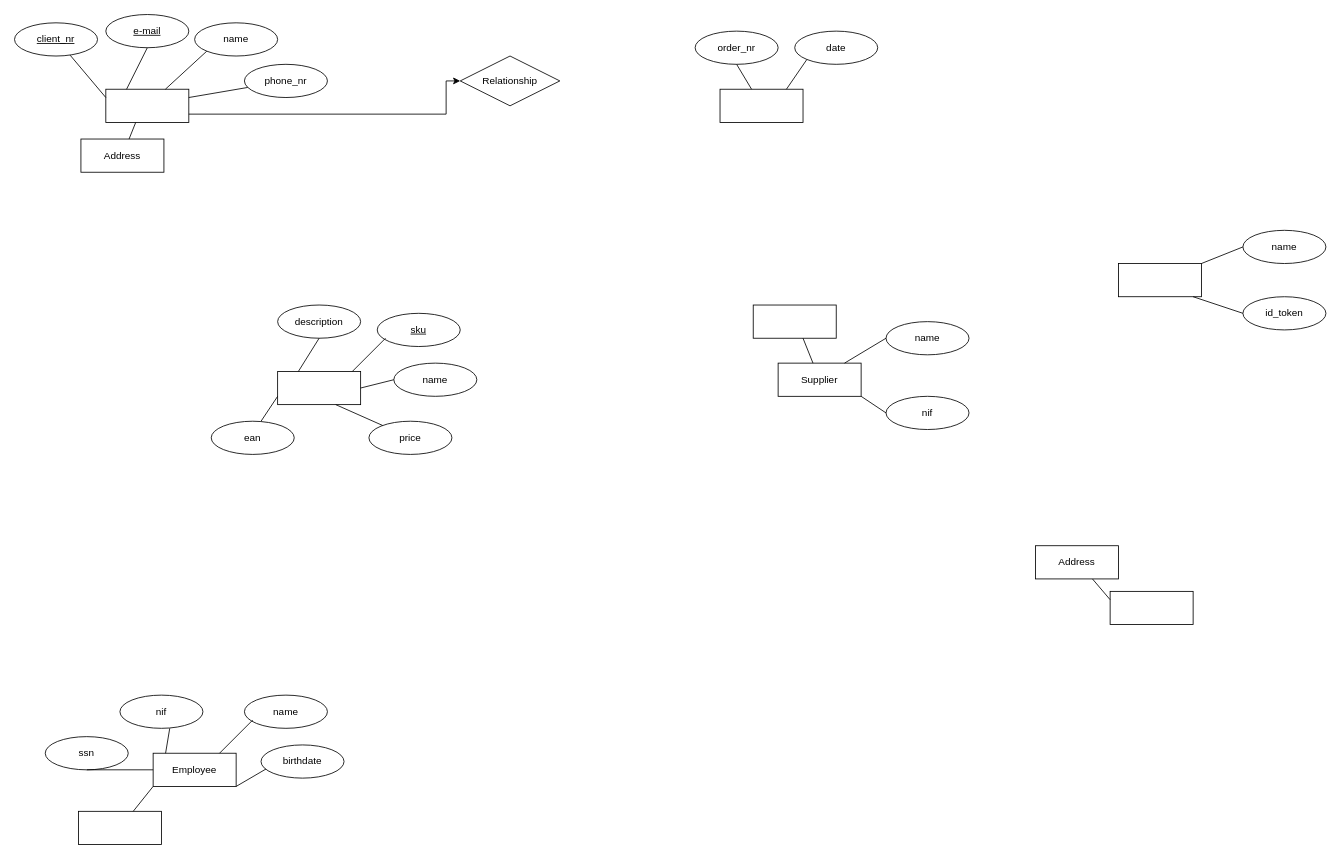
The diagram is 1340 pixels wide and 859 high, and some of its shapes have lost their labels. Here are the shapes that lost their labels. From the top down, the centre of each, then its label:
point 147,105: Client
point 761,105: Package
point 1159,280: Payment Method
point 794,321: Contract
point 319,388: Product
point 1151,608: Workplace
point 119,827: Department
